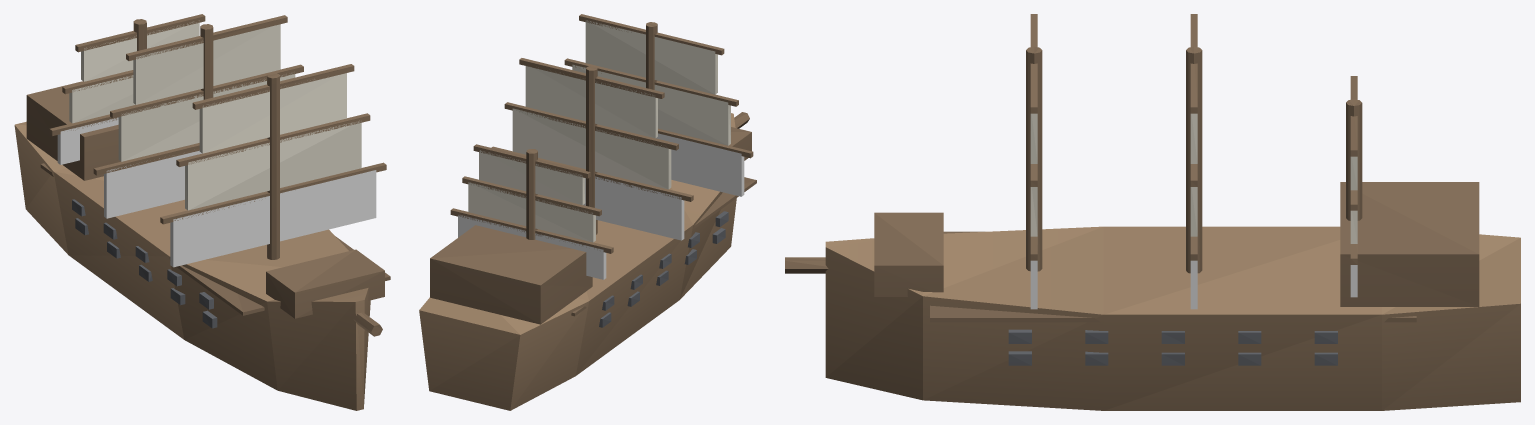
Rendered from Ship of the Line.glb.
3 views of the same model, side by side, from view 1: azimuth 30°, elevation 25°; view 2: azimuth 150°, elevation 25°; view 3: azimuth 270°, elevation 25° (orthographic). The views are drawn at different scales.
Parts seen in each view (by area): view 1: Body; view 2: Body; view 3: Body.
Part boxes in pixels (box(x1,y1,x2,y2)): Body: box(14, 14, 390, 410); Body: box(419, 14, 756, 410); Body: box(785, 14, 1520, 410).
Size of the model in its own units: 0.5346 by 0.62 by 1.27.
